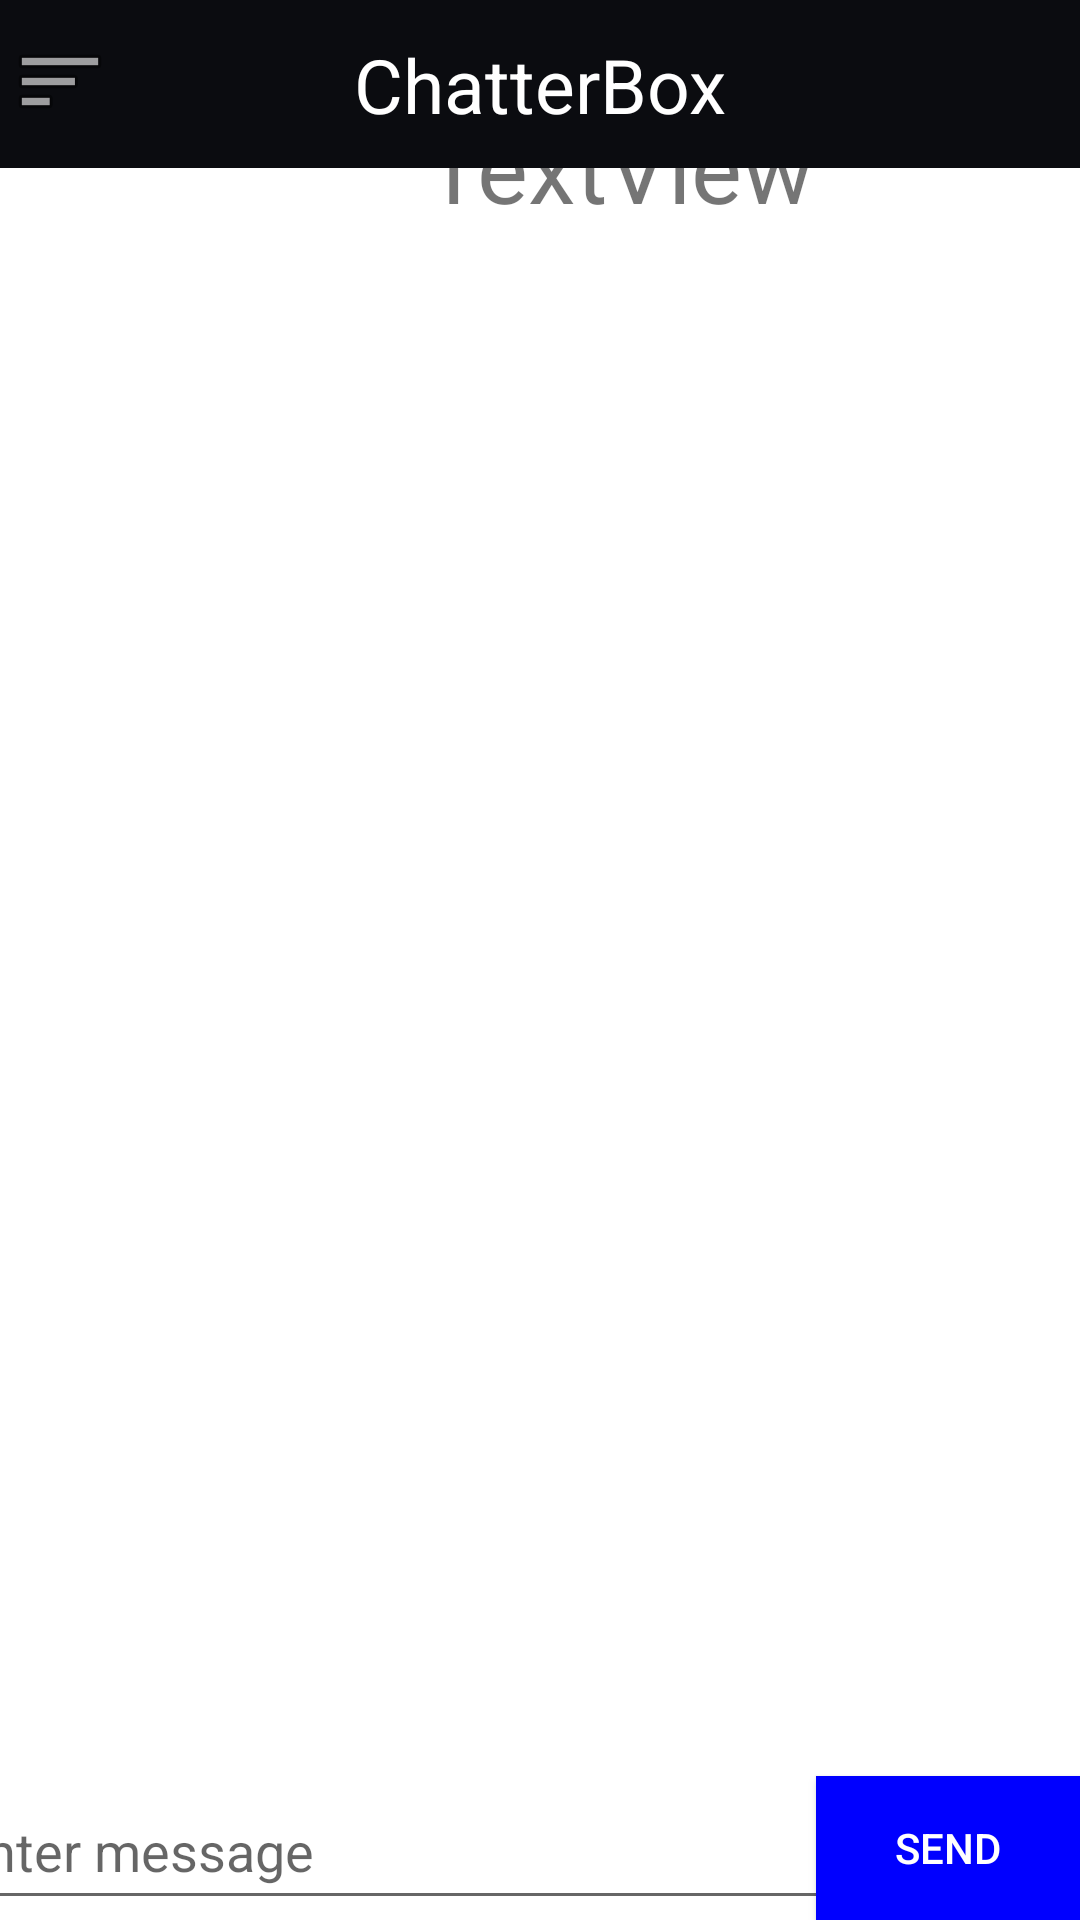

Named icons in this screenshot (1080*1920) and their bounding boxes, box=[x1, y1, x2, y2]:
sort by size: box=[22, 58, 98, 105]
